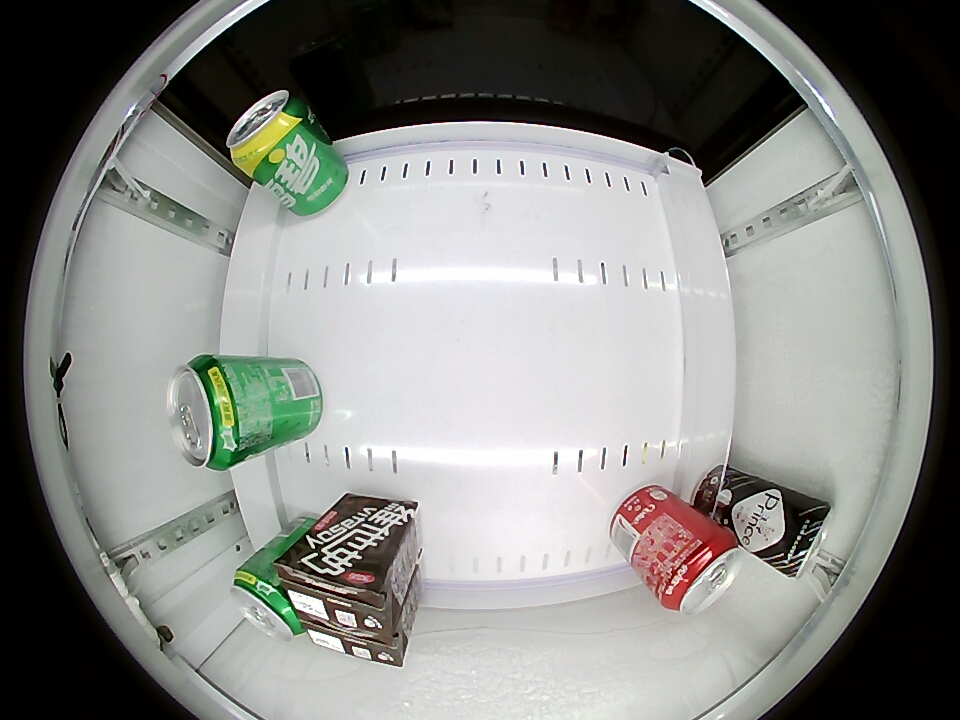kele: (656, 531, 741, 615)
qingdaowangzi-1: (774, 497, 833, 578)
weitanai2: (277, 544, 400, 637), (303, 621, 410, 667)
xuebi2: (168, 354, 254, 471), (226, 90, 312, 170), (231, 562, 304, 641)
